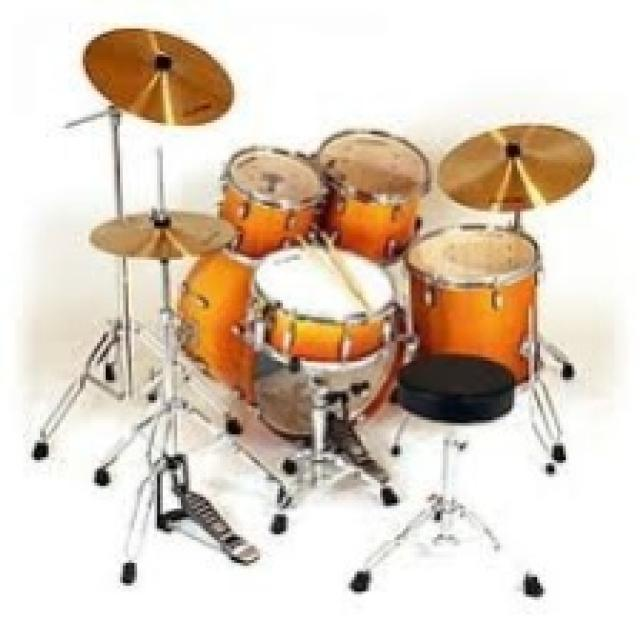drums: (27, 25, 599, 604)
